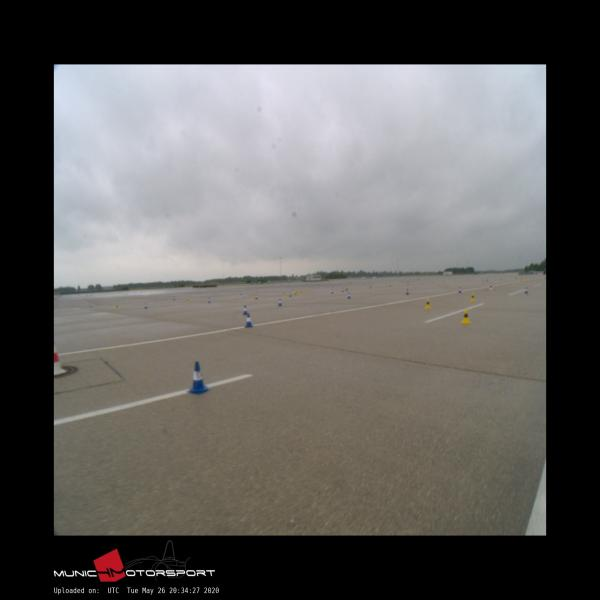blue_cone: (187, 362, 208, 393), (244, 313, 253, 327), (242, 305, 248, 314), (278, 299, 282, 306), (347, 292, 351, 299), (524, 287, 528, 294), (406, 289, 410, 295), (458, 286, 462, 292)
yellow_cone: (460, 309, 471, 323), (424, 298, 431, 308), (471, 293, 475, 301)
